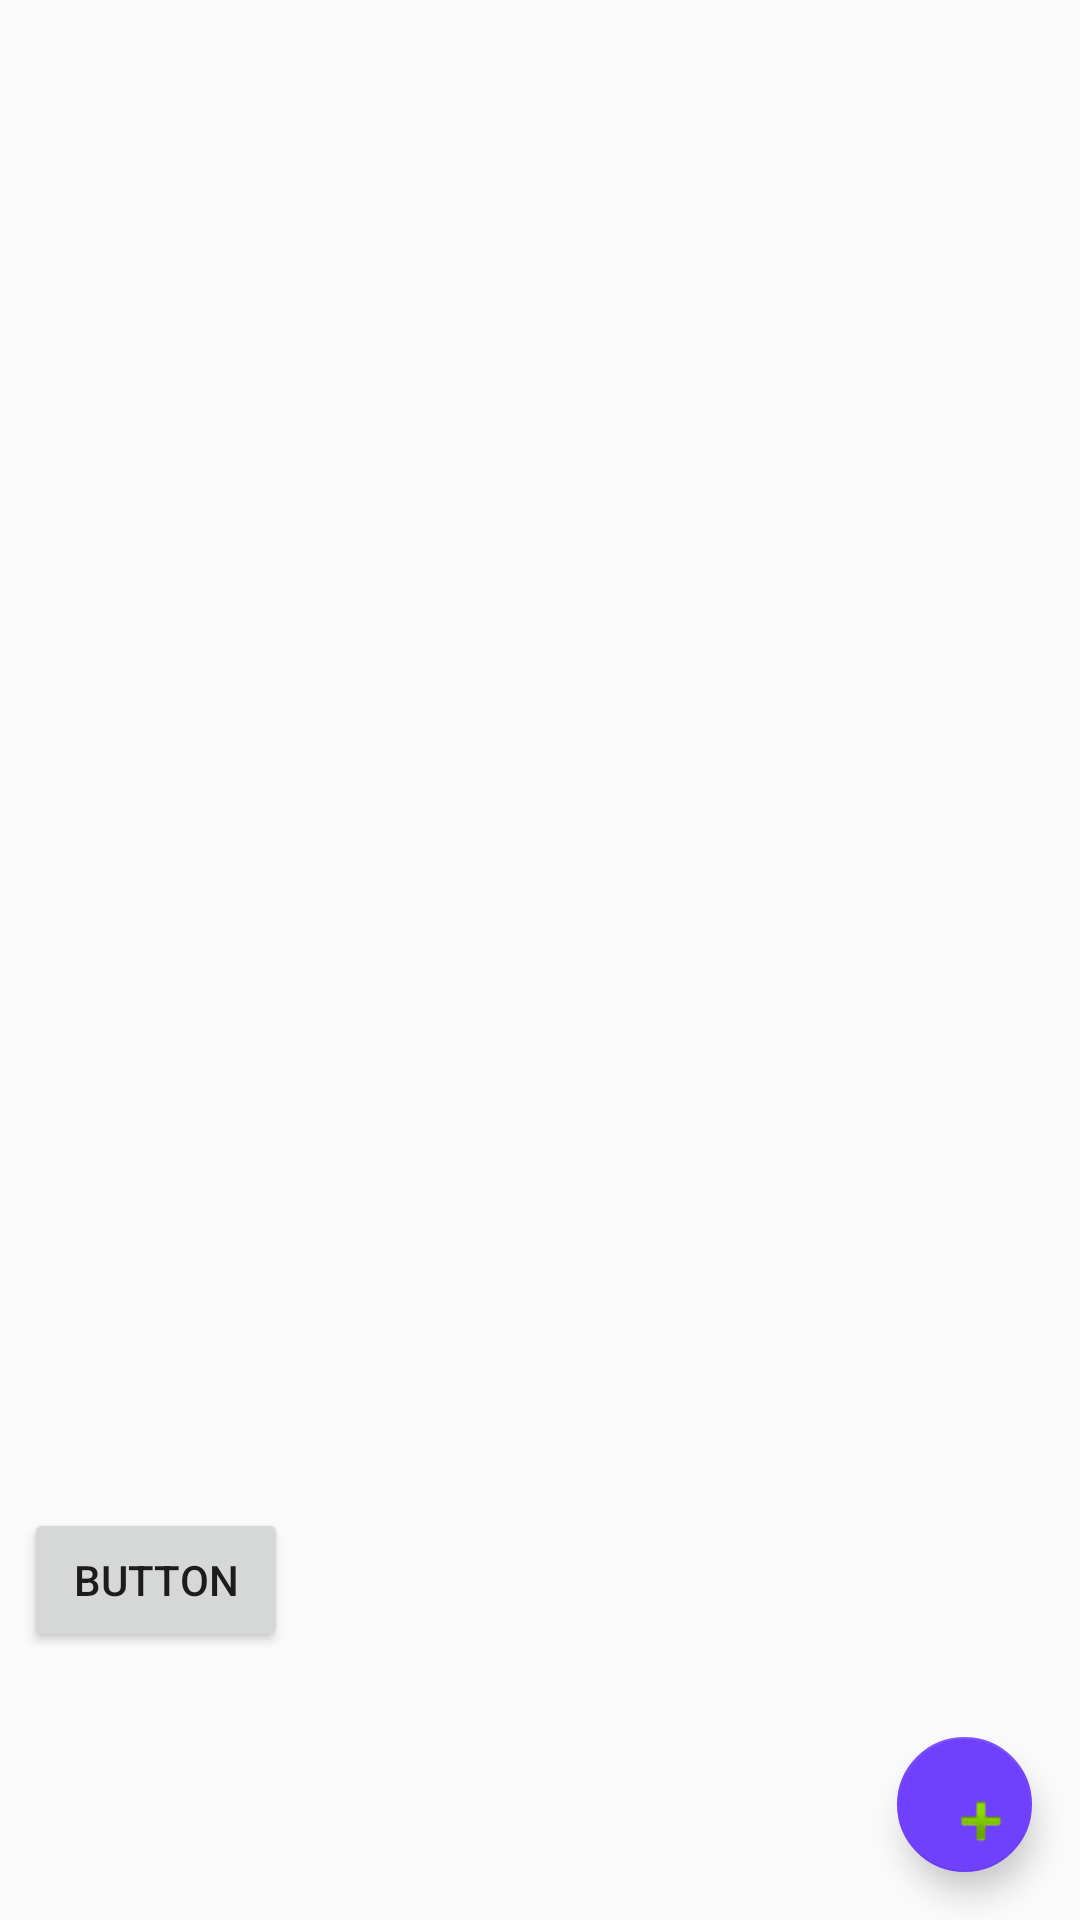

Point at icon controls on the screen. Image size 1080px x 1920px, points as (x=x, y=y).
add: (x=964, y=1804)
